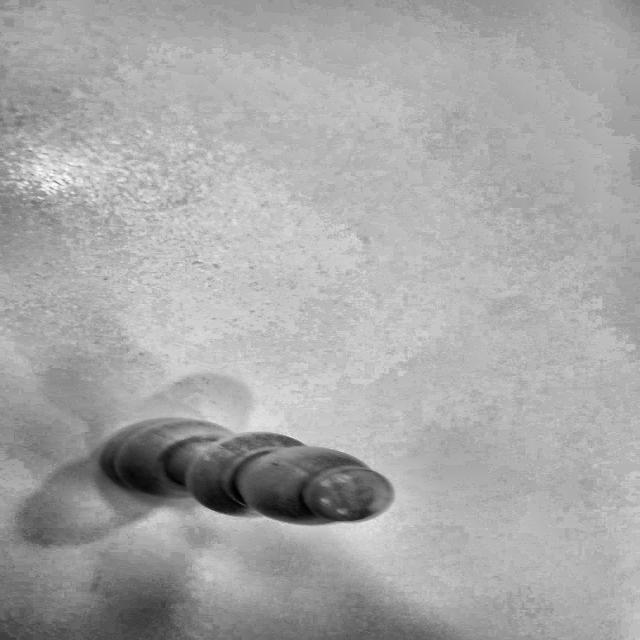white-bishop: (77, 397, 456, 565)
